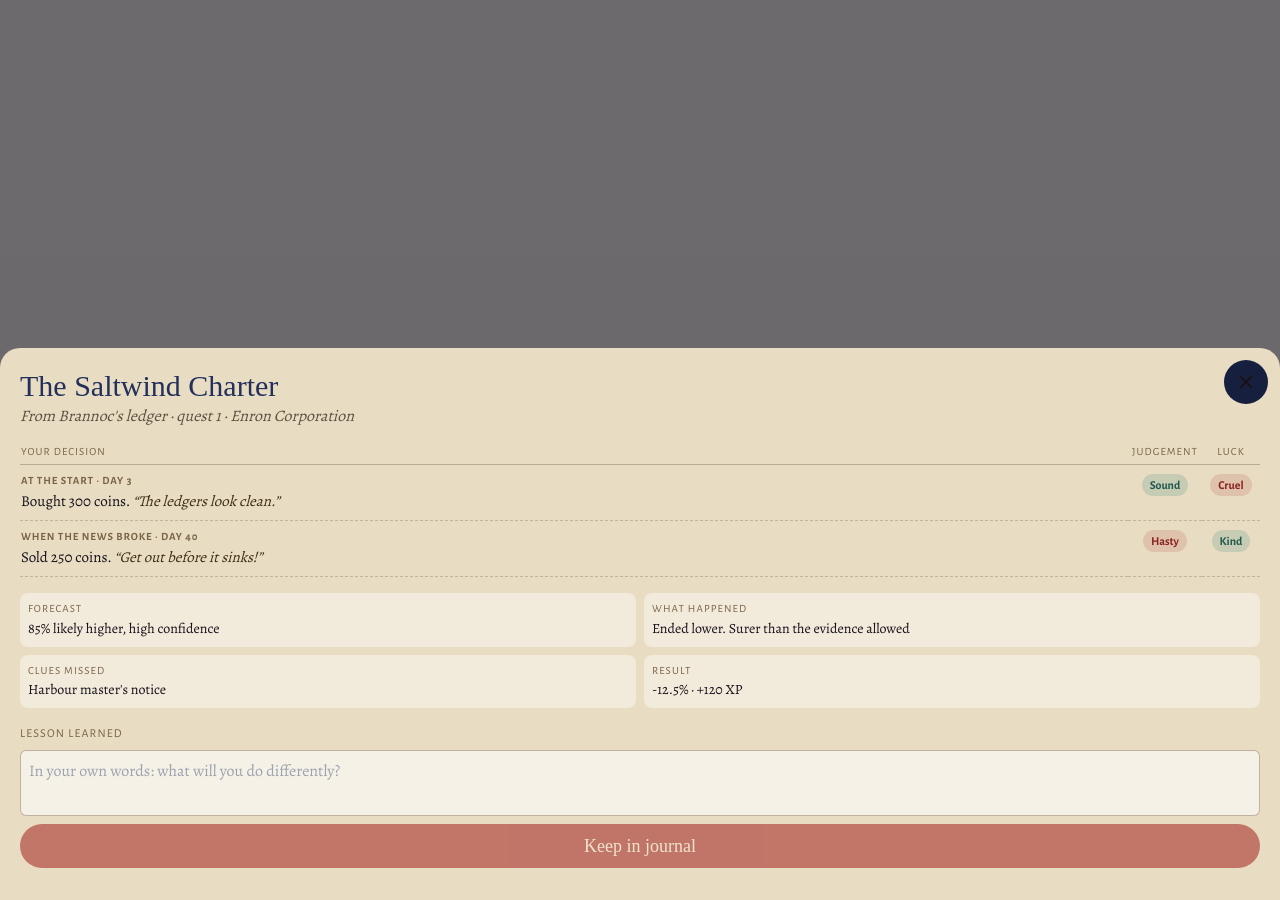
it: VeteranTimeline › shows each decision with judgement and luck apart, and keeps a lesson
The image size is (1280, 900).
Check: the number of rows with test id "timeline-row" is 2, box [20,464,1260,520]; [20,520,1260,576]
Check: the row with test id "timeline-row" shows "Sound", box [1150,479,1180,491]
In the text box labelled "Lesson learned": (640, 783) [20,750,1260,816], type "Reread my reasons before I sell."
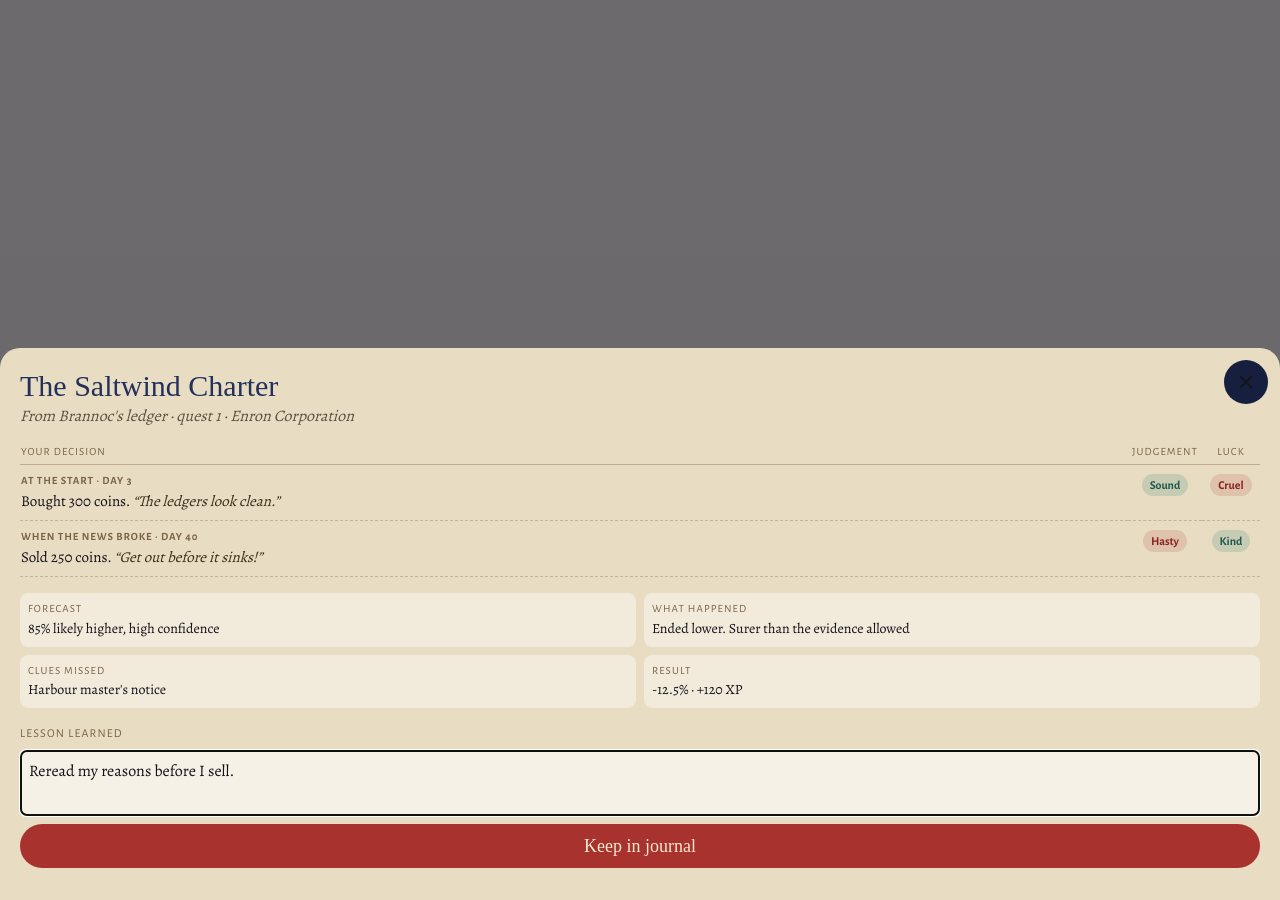
Click the button "Keep in journal": (640, 846) [20,824,1260,868]
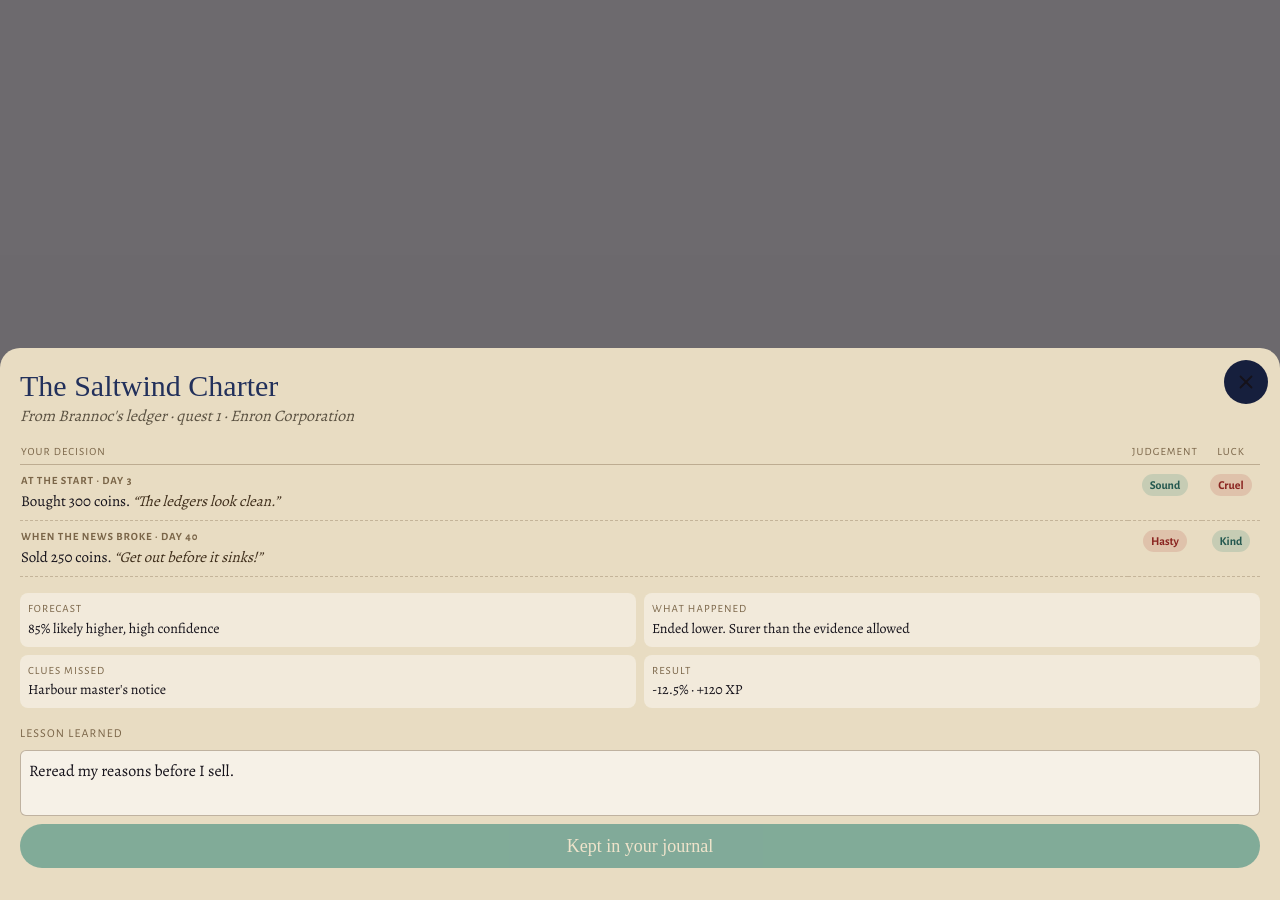
Check: the button "Kept in your journal" is disabled, box [20,824,1260,868]
